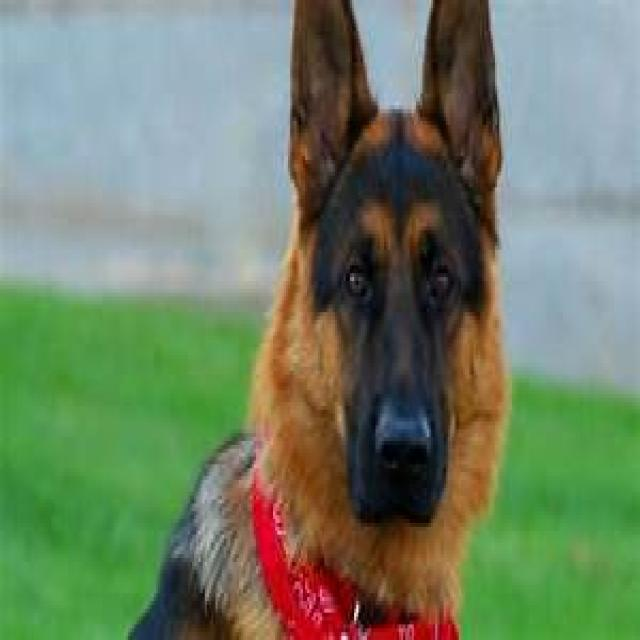KOPEK: (141, 0, 520, 640)
